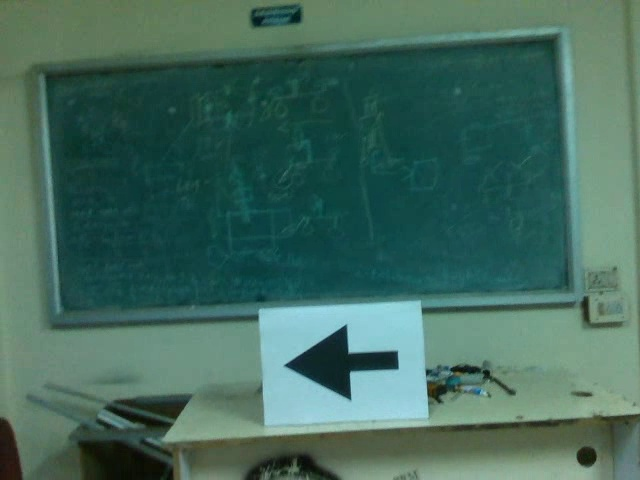Left: (276, 320, 408, 408)
